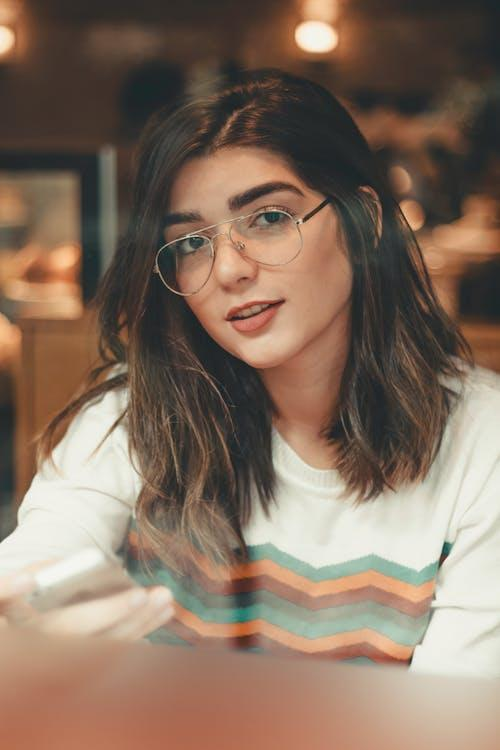spectacles: (116, 198, 340, 302)
